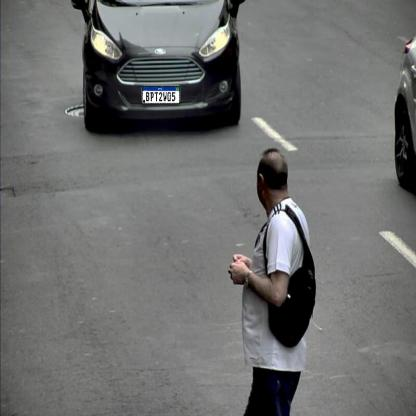PlacaM: (142, 86, 180, 104)
